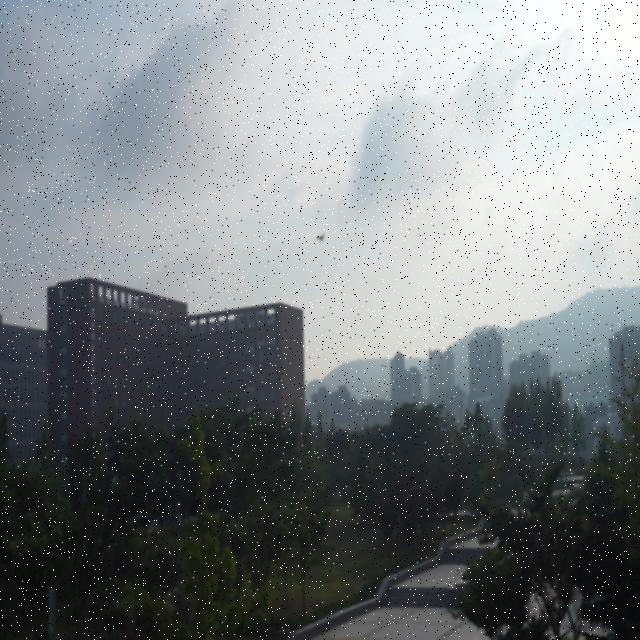UAV: (316, 234, 326, 244)
